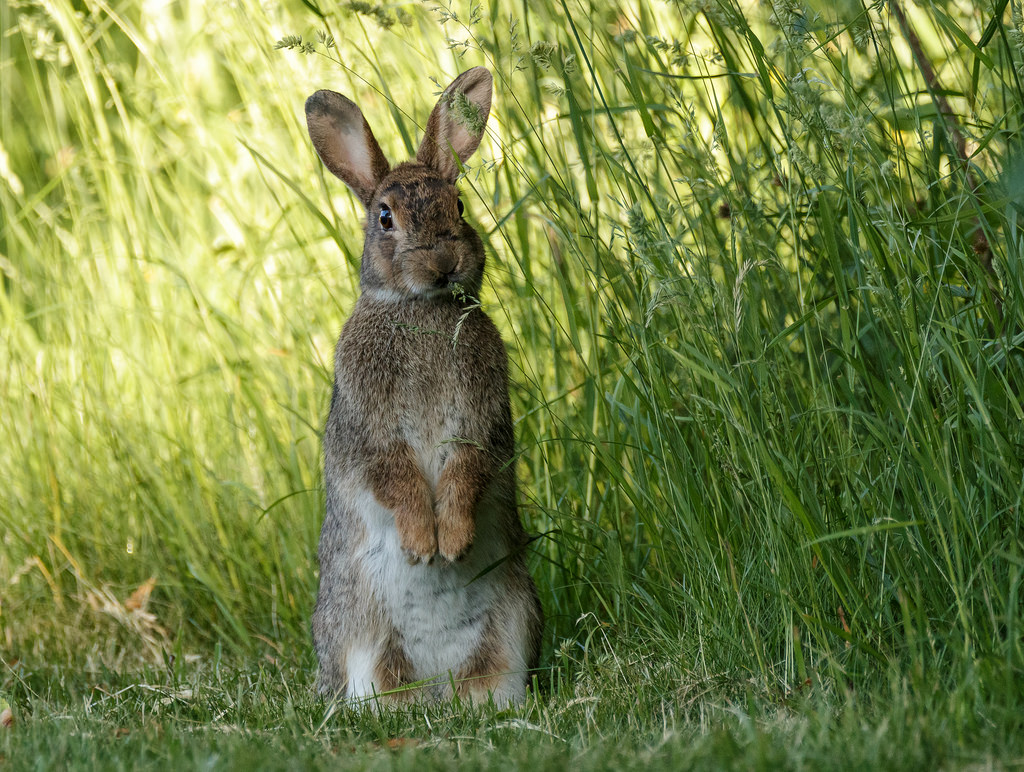bunny: (258, 53, 584, 735)
